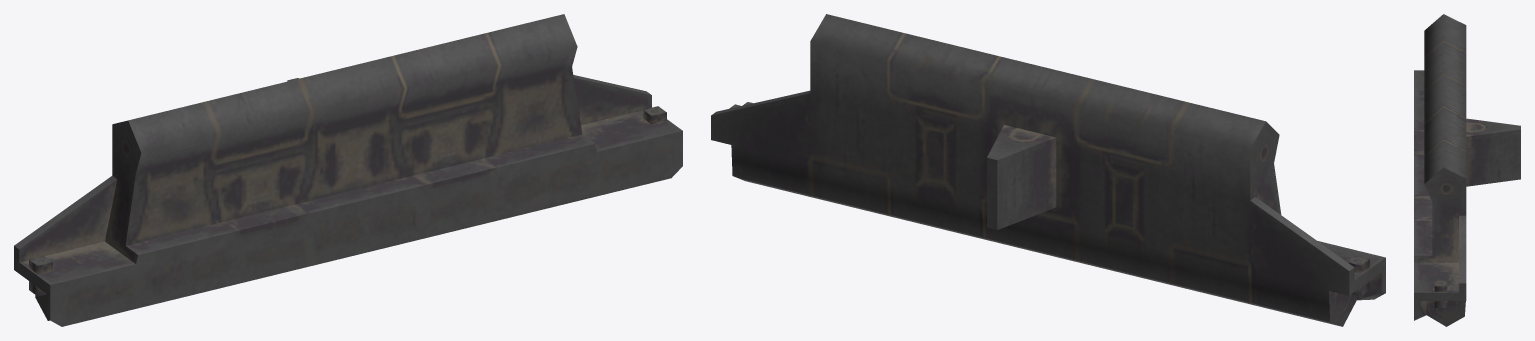
3 views of the same model, side by side, from view 1: azimuth 30°, elevation 25°; view 2: azimuth 150°, elevation 25°; view 3: azimuth 270°, elevation 25° (orthographic). The views are drawn at different scales.
Visible parts, largest first — view 1: set_0_group_0; view 2: set_0_group_0; view 3: set_0_group_0.
Boxes of the visible parts, left/top/right/bottom form: set_0_group_0: left=14, top=14, right=682, bottom=326; set_0_group_0: left=711, top=14, right=1385, bottom=326; set_0_group_0: left=1414, top=14, right=1520, bottom=326.
Size of the model in its own units: 0.6003 by 0.1661 by 0.1217.
Materials: 1 (1 with a texture image).
